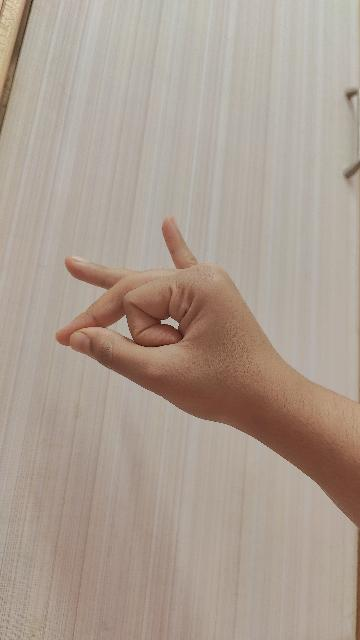bhramara: (55, 218, 360, 532)
